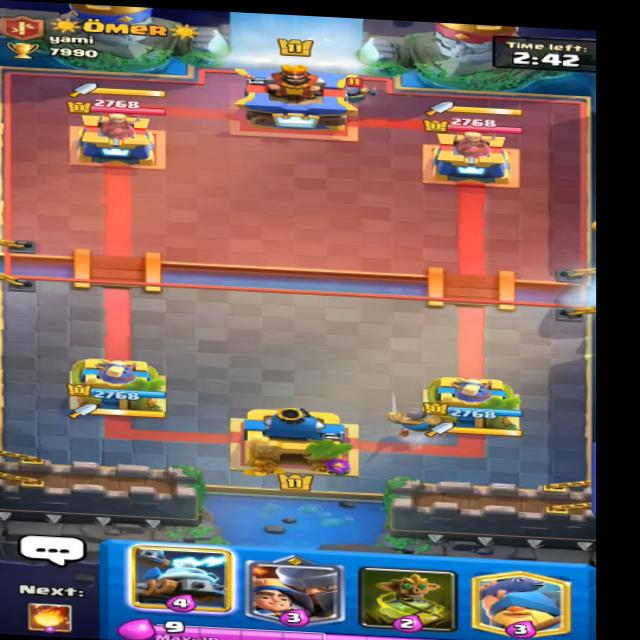Minipekka: (330, 76, 381, 109)
